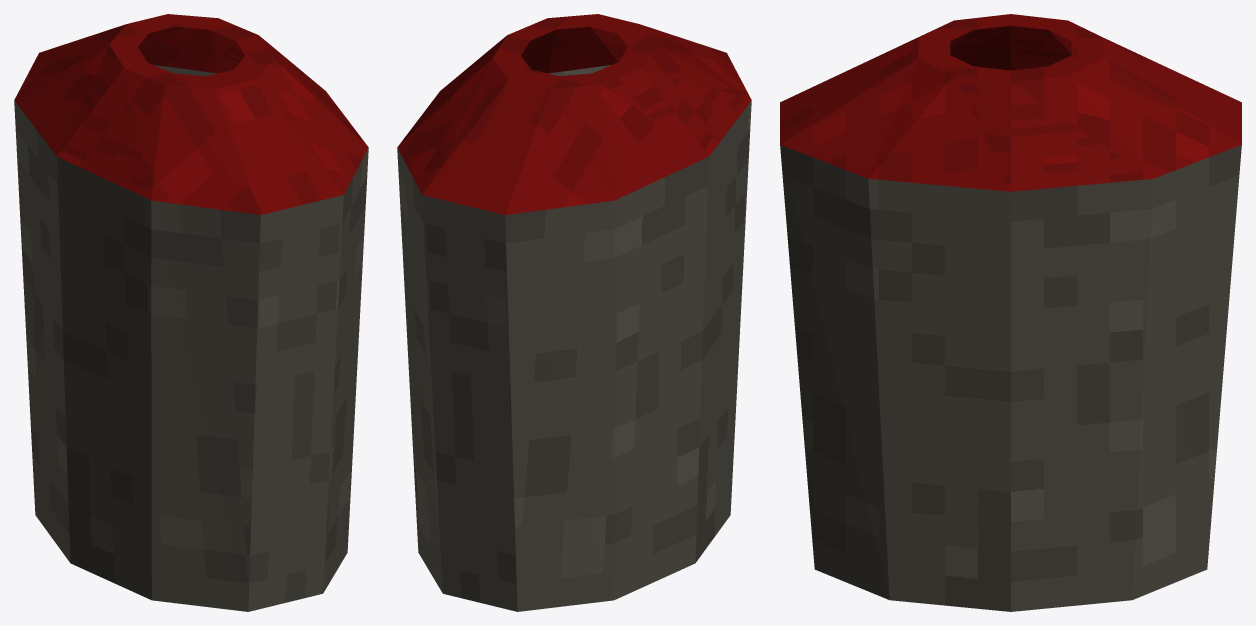
Rendered from fieltro.glb.
The picture shows the model from 3 angles, left to right: view 1: azimuth 30°, elevation 25°; view 2: azimuth 150°, elevation 25°; view 3: azimuth 270°, elevation 25°; orthographic projection. The views are drawn at different scales.
Visible parts, largest first — view 1: coraza, cuello; view 2: coraza, cuello; view 3: coraza, cuello.
Part boxes in pixels (bbox=[...]): coraza: bbox=[14, 65, 368, 611]; cuello: bbox=[14, 14, 368, 214]; coraza: bbox=[397, 65, 751, 611]; cuello: bbox=[397, 14, 751, 214]; coraza: bbox=[780, 144, 1241, 611]; cuello: bbox=[780, 14, 1241, 191].
Size of the model in its own units: 0.35 by 0.6 by 0.5.
1 material, 1 textured.
